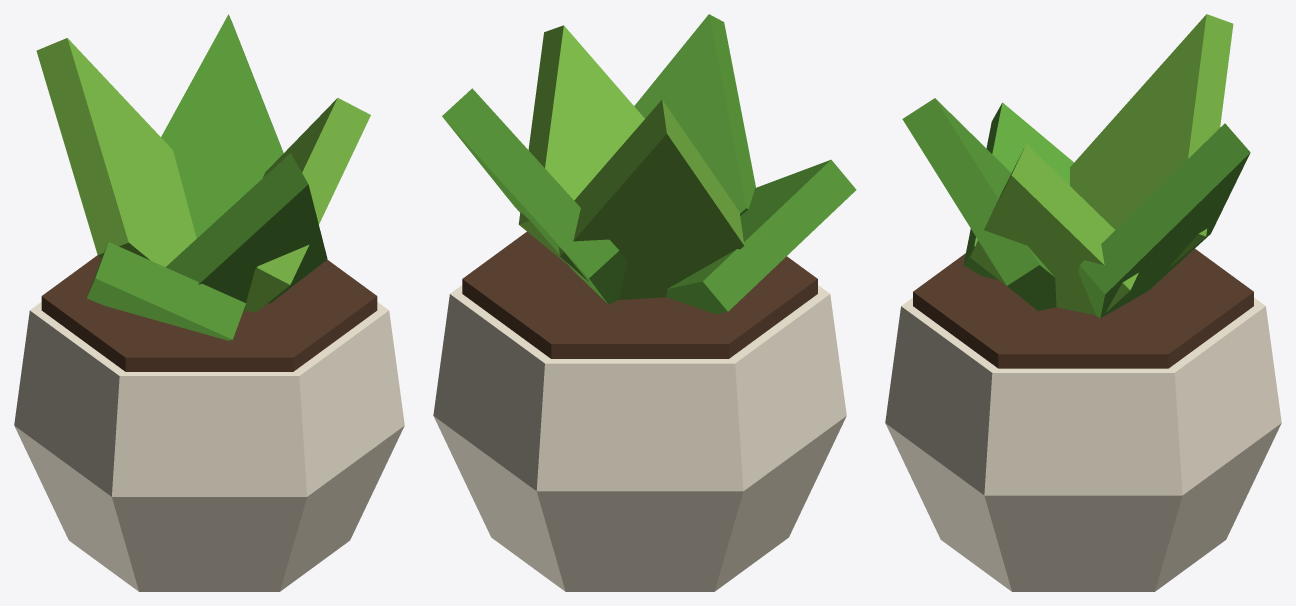
Rendered from tabletop_plant.glb.
3 renders of one model, left to right at view 1: azimuth 30°, elevation 25°; view 2: azimuth 150°, elevation 25°; view 3: azimuth 270°, elevation 25°, orthographic. The views are drawn at different scales.
Visible parts, largest first — view 1: tabletop_plant; view 2: tabletop_plant; view 3: tabletop_plant.
Part boxes in pixels (x1,y1,x2,y2): tabletop_plant: (14,14,404,591); tabletop_plant: (433,14,856,591); tabletop_plant: (885,14,1281,591).
Size of the model in its own units: 0.1447 by 0.2161 by 0.16.
